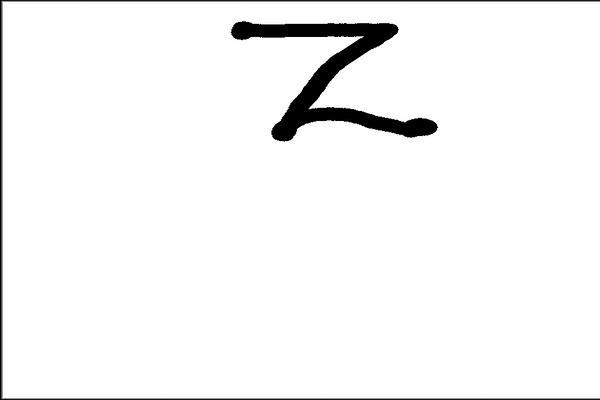Z: (226, 12, 443, 147)
